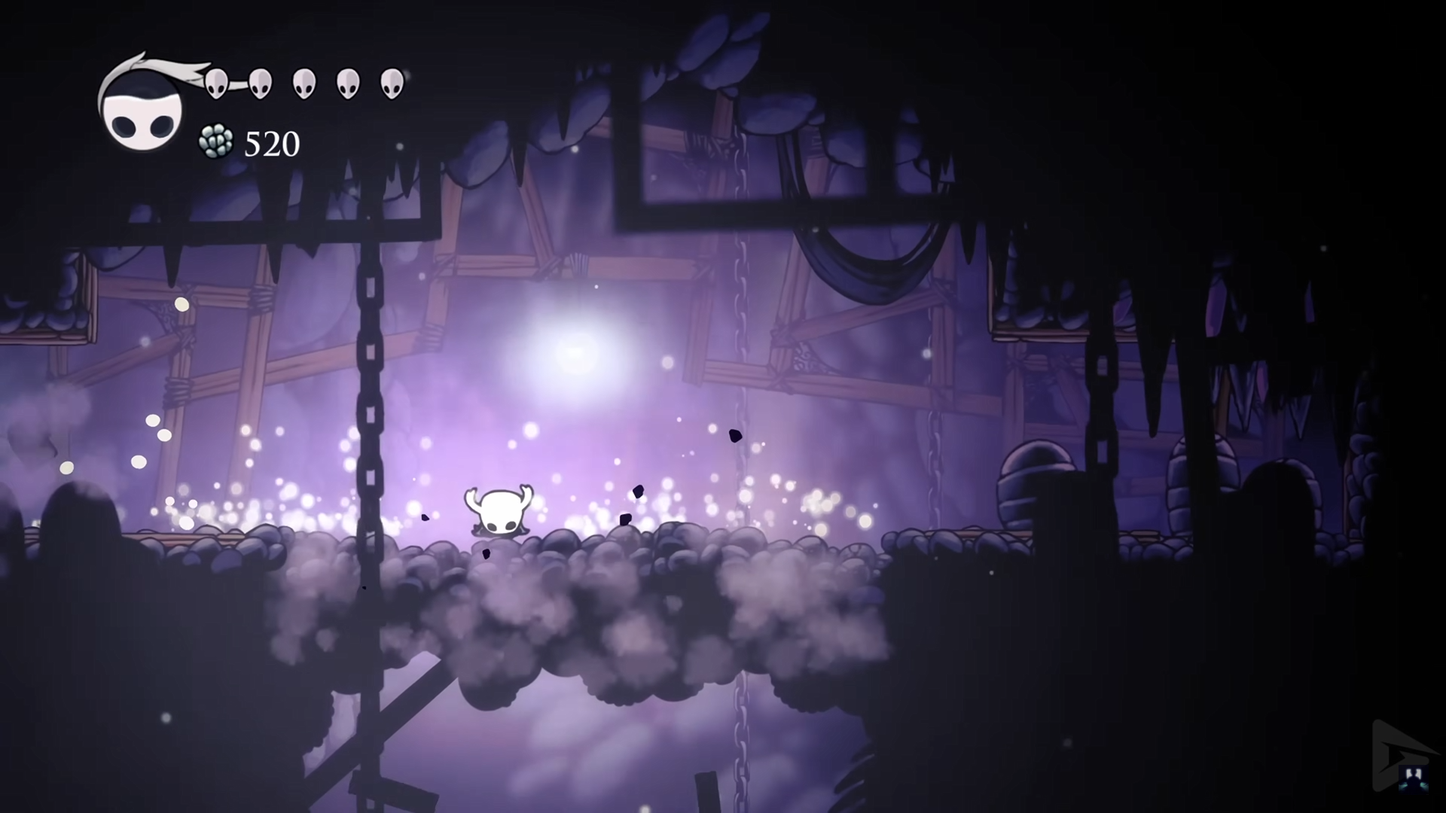HK: (461, 481, 534, 552)
